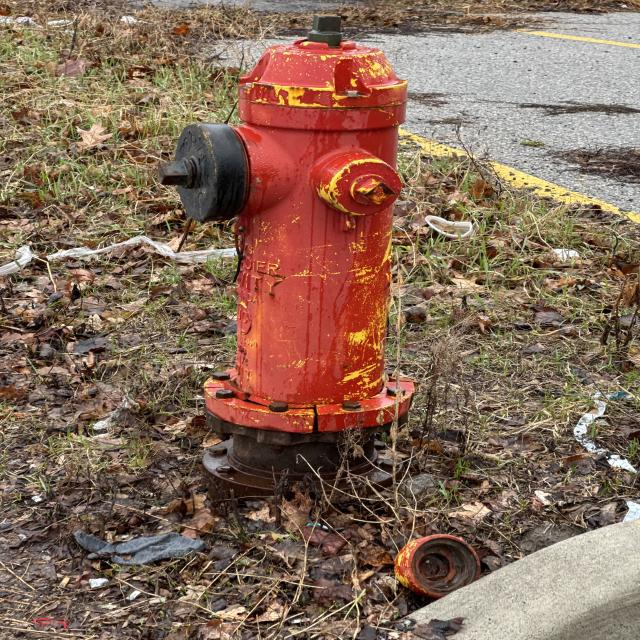Fire hydrant: (156, 14, 420, 434)
